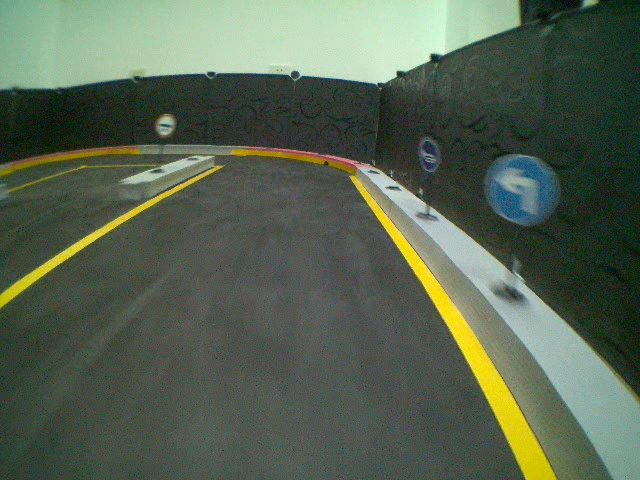Check: (152, 111, 179, 135)
horn: (414, 135, 446, 179)
turn: (492, 151, 565, 222)
